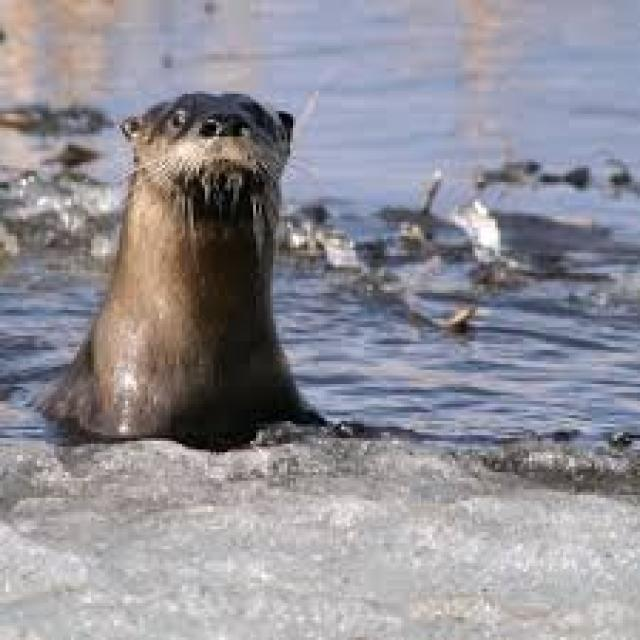Otter: (42, 83, 336, 445)
